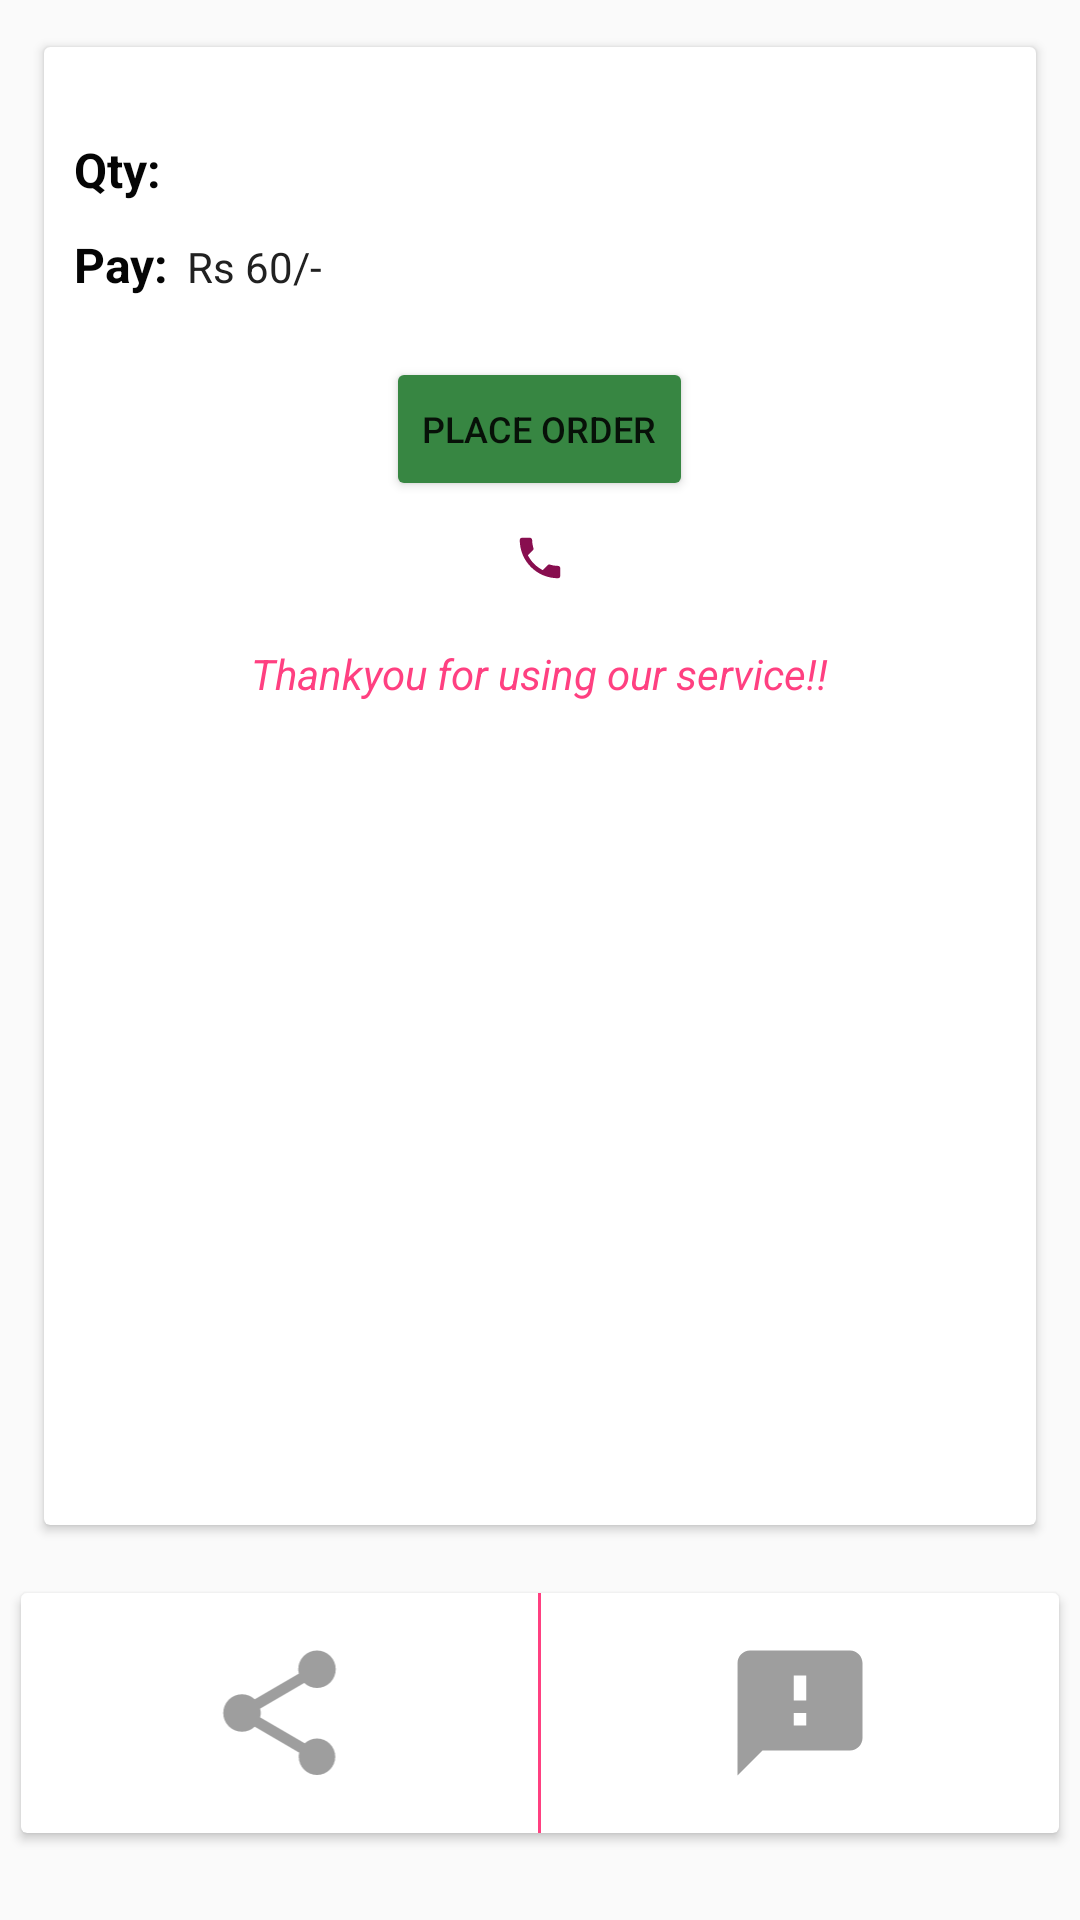

Icon click points for this 1080*1920 phone screenshot, format (x=x, y=y):
call: (x=540, y=558)
feedback: (x=800, y=1712)
share: (x=279, y=1712)
